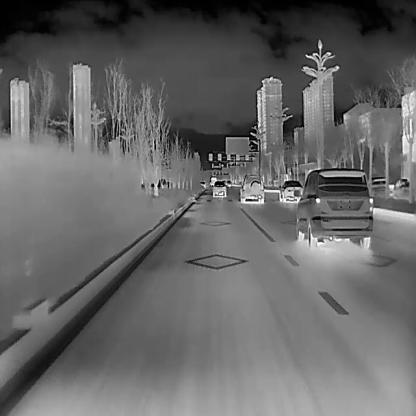car: (292, 166, 373, 249), (239, 174, 264, 202), (278, 180, 304, 202), (369, 176, 391, 198), (391, 176, 409, 199), (211, 180, 226, 196)
